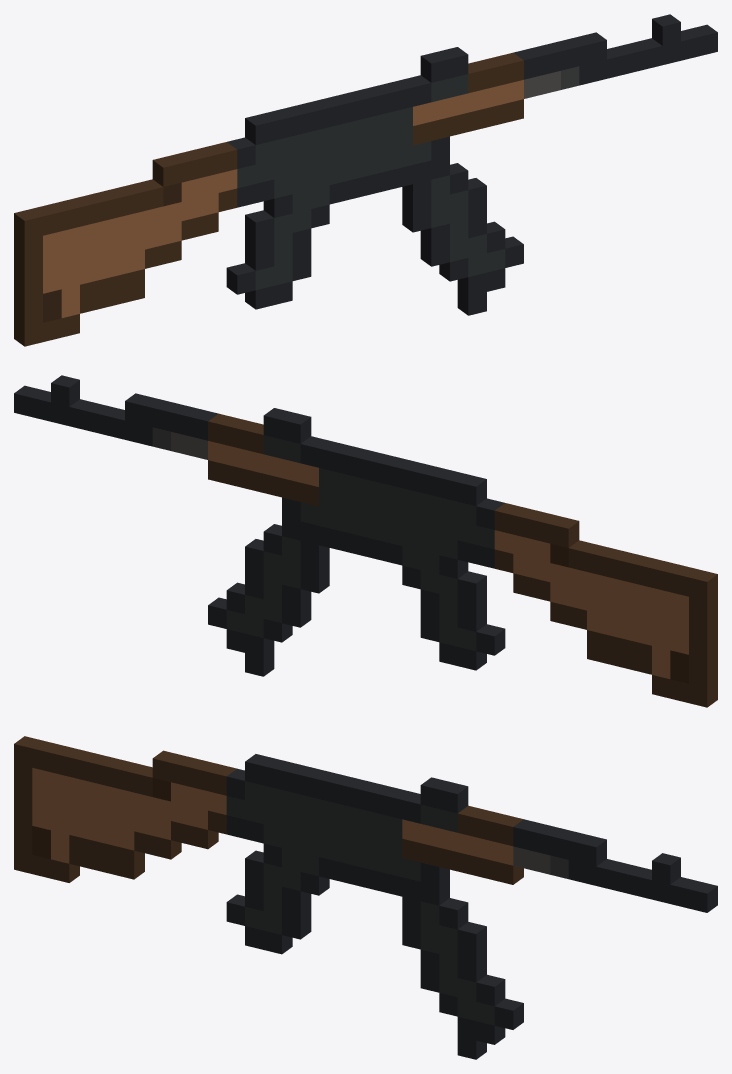
3 views of the same model, one above another, from view 1: azimuth 30°, elevation 25°; view 2: azimuth 150°, elevation 25°; view 3: azimuth 330°, elevation 25° (orthographic).
Parts seen in each view (by area): view 1: obj1; view 2: obj1; view 3: obj1.
Part boxes in pixels (x1=…): obj1: x1=14, y1=14, x2=717, y2=346; obj1: x1=14, y1=375, x2=717, y2=707; obj1: x1=14, y1=736, x2=717, y2=1059.
Size of the model in its own units: 97.26 by 35.01 by 2.59.
1 material, 1 textured.
